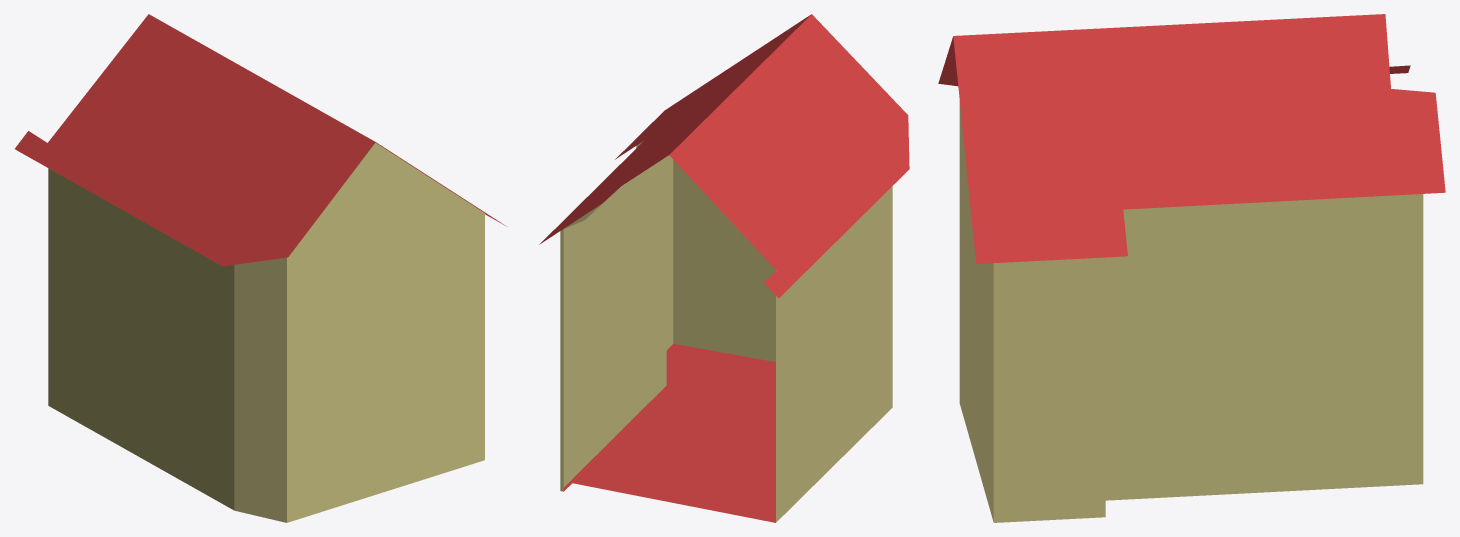
3 views of the same model, side by side, from view 1: azimuth 30°, elevation 25°; view 2: azimuth 150°, elevation 25°; view 3: azimuth 270°, elevation 25° (orthographic). The views are drawn at different scales.
Bounding box in the file's own units: 15.22 × 18.96 × 17.15.
